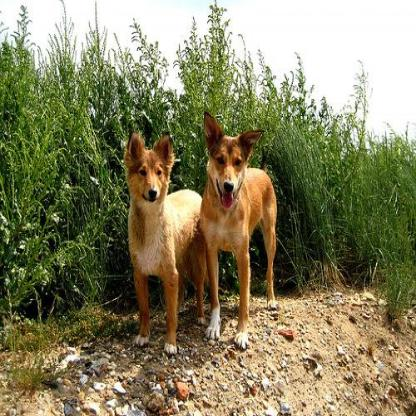kelpie: (124, 126, 209, 356), (199, 111, 279, 349)
